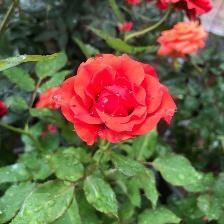rose: (56, 52, 180, 148)
